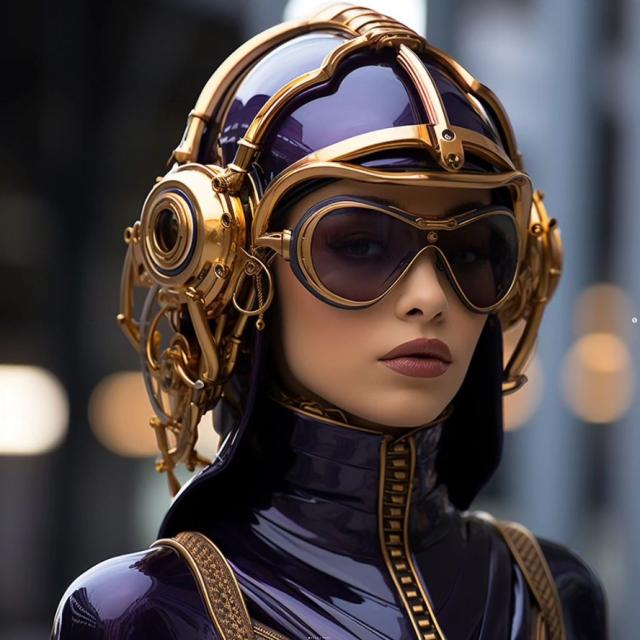illegal_helmet: (98, 0, 574, 495)
